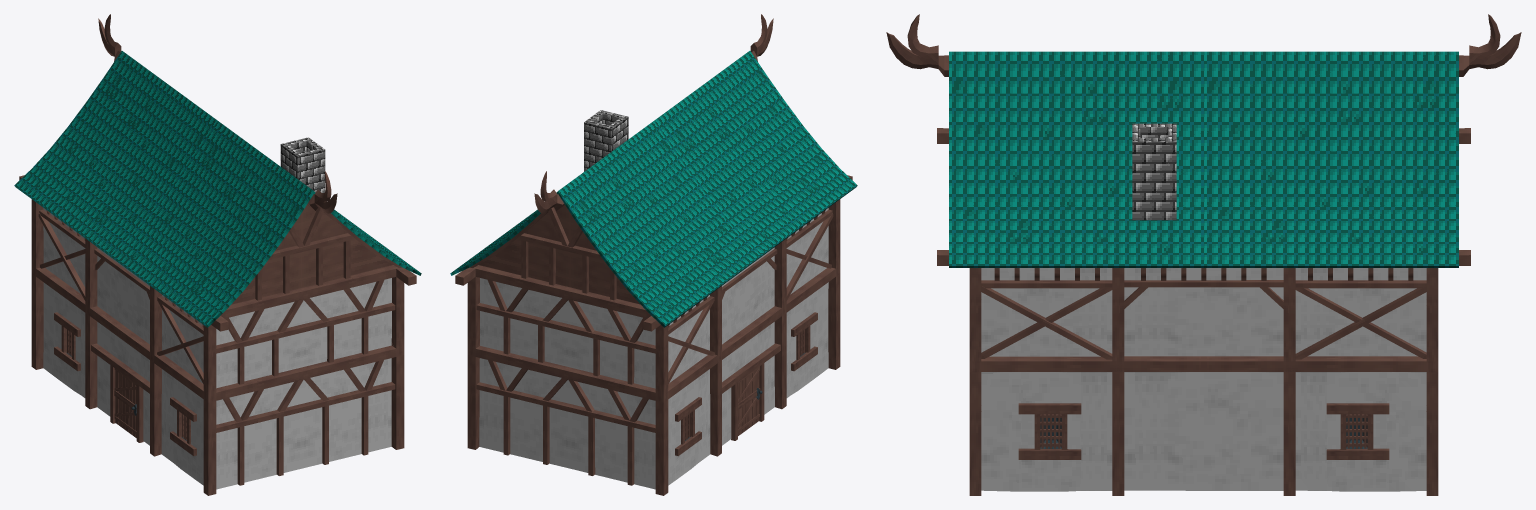
File: maison6.glb
3 views of the same model, side by side, from view 1: azimuth 30°, elevation 25°; view 2: azimuth 150°, elevation 25°; view 3: azimuth 270°, elevation 25° (orthographic). The views are drawn at different scales.
Visible parts, largest first — view 1: Lateral; view 2: Lateral; view 3: Lateral.
Part boxes in pixels (left/top/right/bottom): Lateral: left=14, top=14, right=421, bottom=495; Lateral: left=450, top=14, right=857, bottom=495; Lateral: left=886, top=14, right=1521, bottom=495.
Bounding box in the file's own units: 3.47 × 4.87 × 6.67.
1 material, 1 textured.
